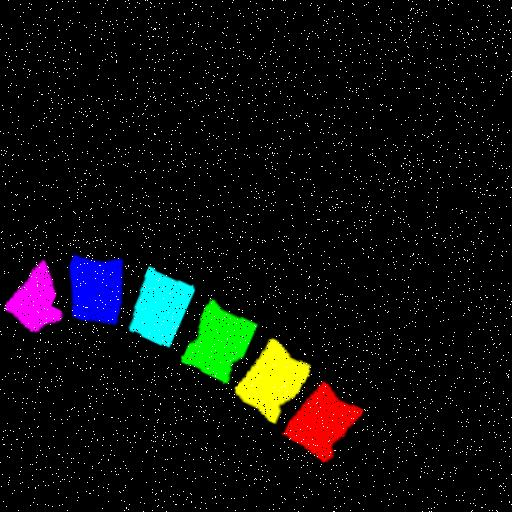L1: (287, 375, 367, 454)
L2: (239, 332, 314, 417)
L3: (185, 295, 261, 378)
L4: (132, 265, 197, 344)
L5: (71, 255, 124, 321)
S1: (8, 260, 64, 330)
